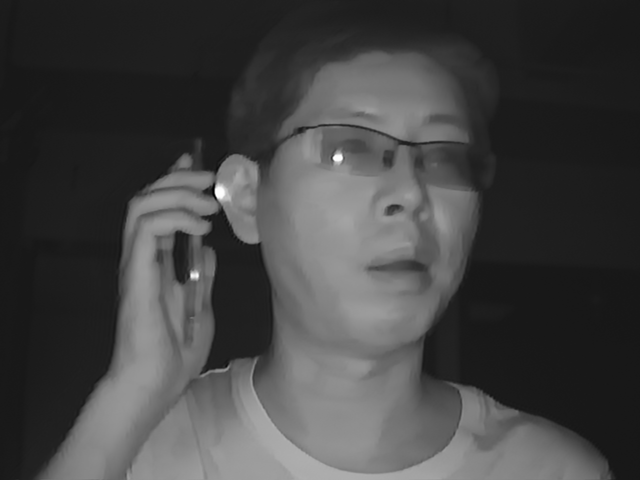hand: (101, 163, 222, 385)
